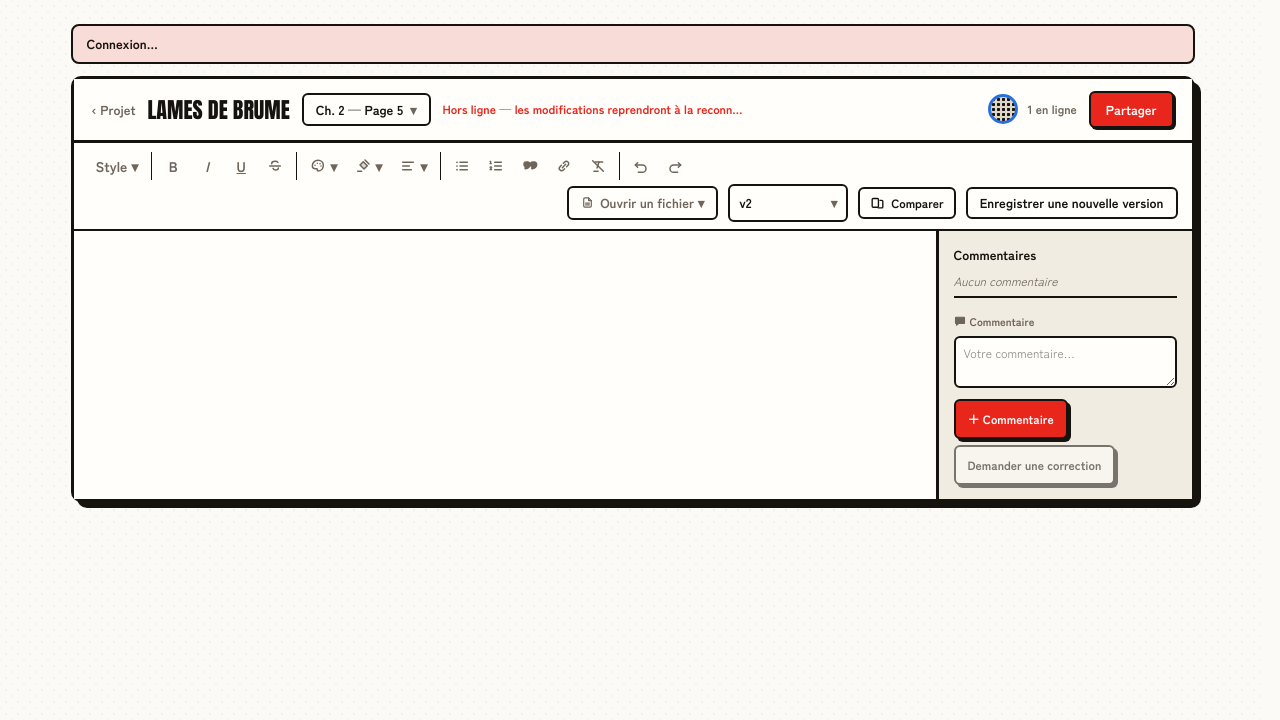
EditorClient (Éditeur shell) › Item1: "Comparer" opens the side-by-side compare modal fed by getReview
The image size is (1280, 720).
Expected: the text "Lames de Brume" is shown, [148, 93, 290, 126]
Click the button "Comparer" at (907, 203), box [858, 187, 956, 219]
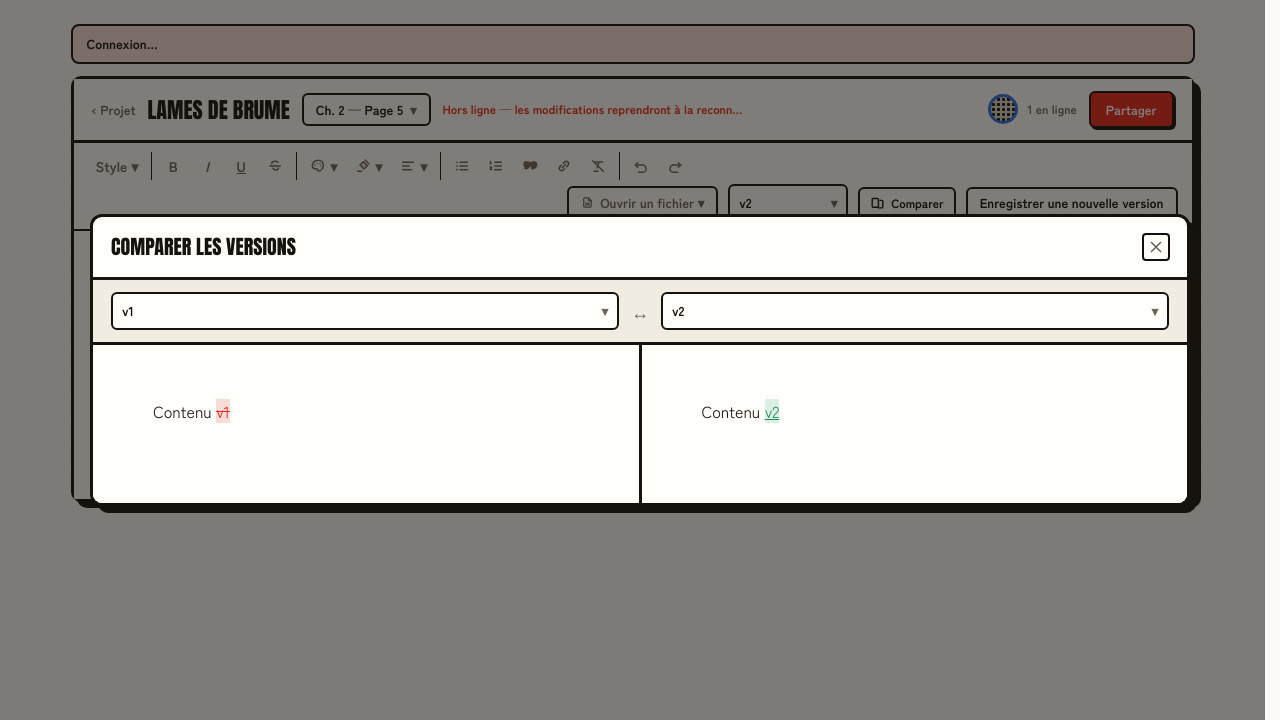
Result: the dialog "Comparer les versions v1 ▾ ↔ v2 ▾ Contenu v1 Contenu v2" is shown at [90, 214, 1190, 506]
Result: the 2nd text "v1" is shown at [216, 399, 230, 423]
Result: the 2nd text "v2" is shown at [765, 399, 779, 423]
